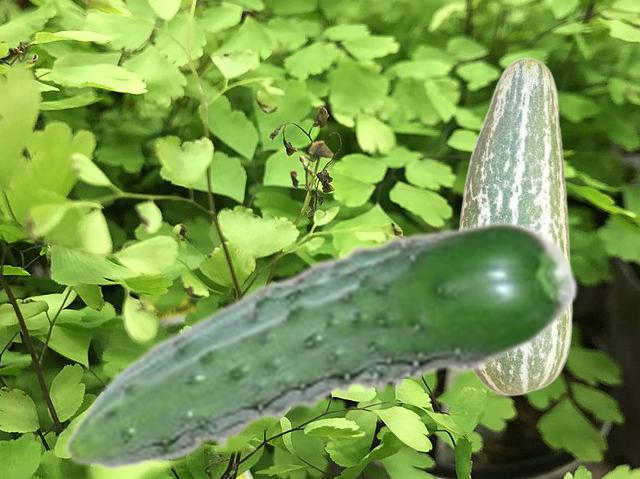cucumber: (63, 220, 579, 469), (457, 57, 572, 395)
